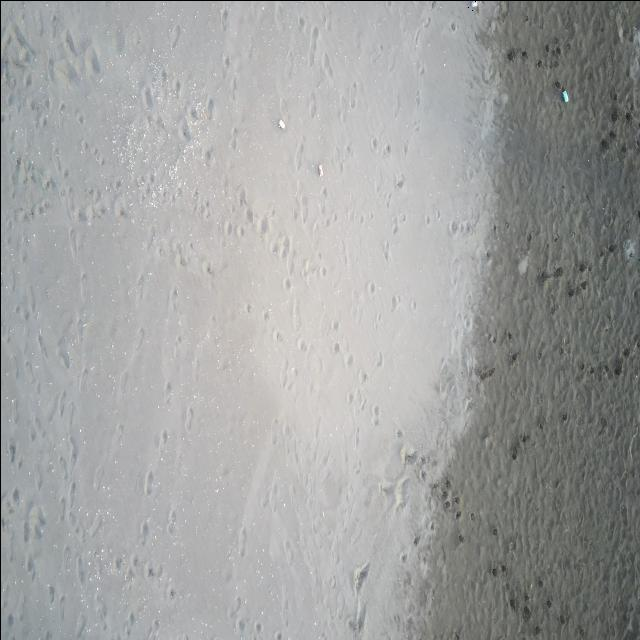Garbage: (560, 88, 567, 101), (316, 163, 323, 176), (471, 0, 477, 8), (279, 119, 284, 128)
